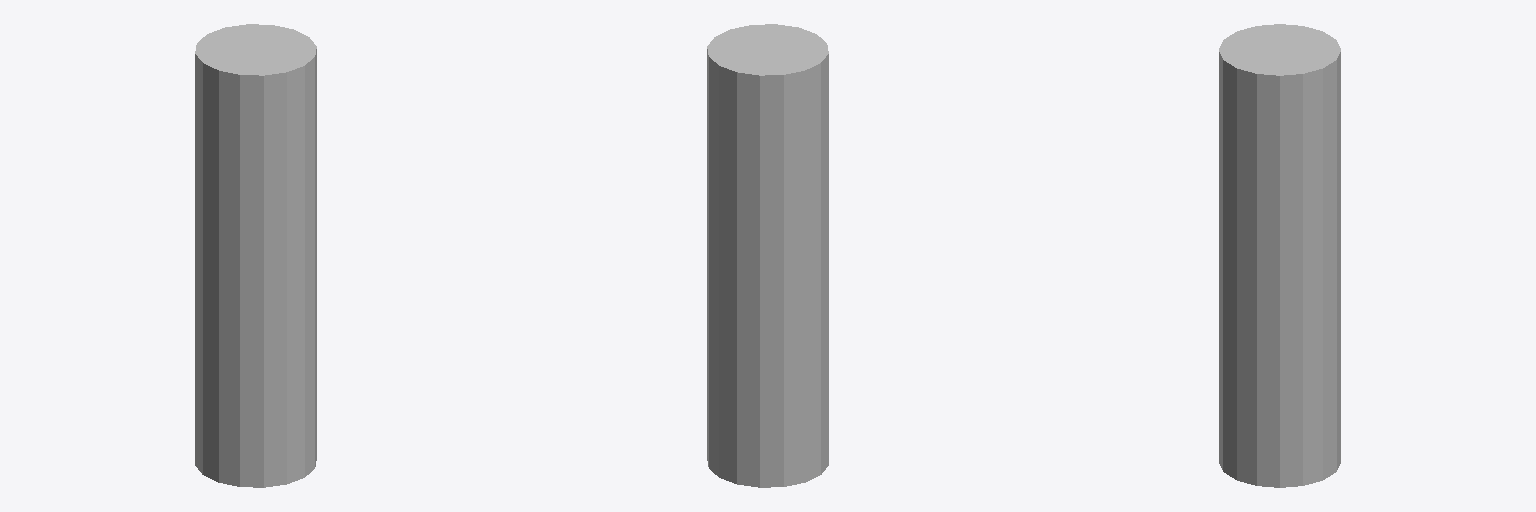
File: pipe_cylinder.obj
The picture shows the model from 3 angles: view 1: azimuth 30°, elevation 25°; view 2: azimuth 150°, elevation 25°; view 3: azimuth 270°, elevation 25°; orthographic projection.
Visible parts, largest first — view 1: Cylinder_Cylinder.001; view 2: Cylinder_Cylinder.001; view 3: Cylinder_Cylinder.001.
Boxes of the visible parts, box(x1,y1,x2,y2) form: Cylinder_Cylinder.001: box(195, 24, 316, 487); Cylinder_Cylinder.001: box(707, 24, 828, 487); Cylinder_Cylinder.001: box(1219, 24, 1340, 487).
Size of the model in its own units: 0.27 by 1 by 0.27.